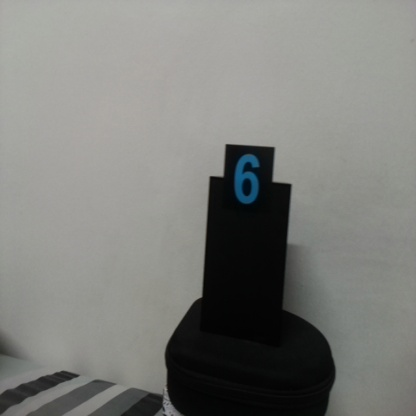id_6: (225, 145, 274, 223)
